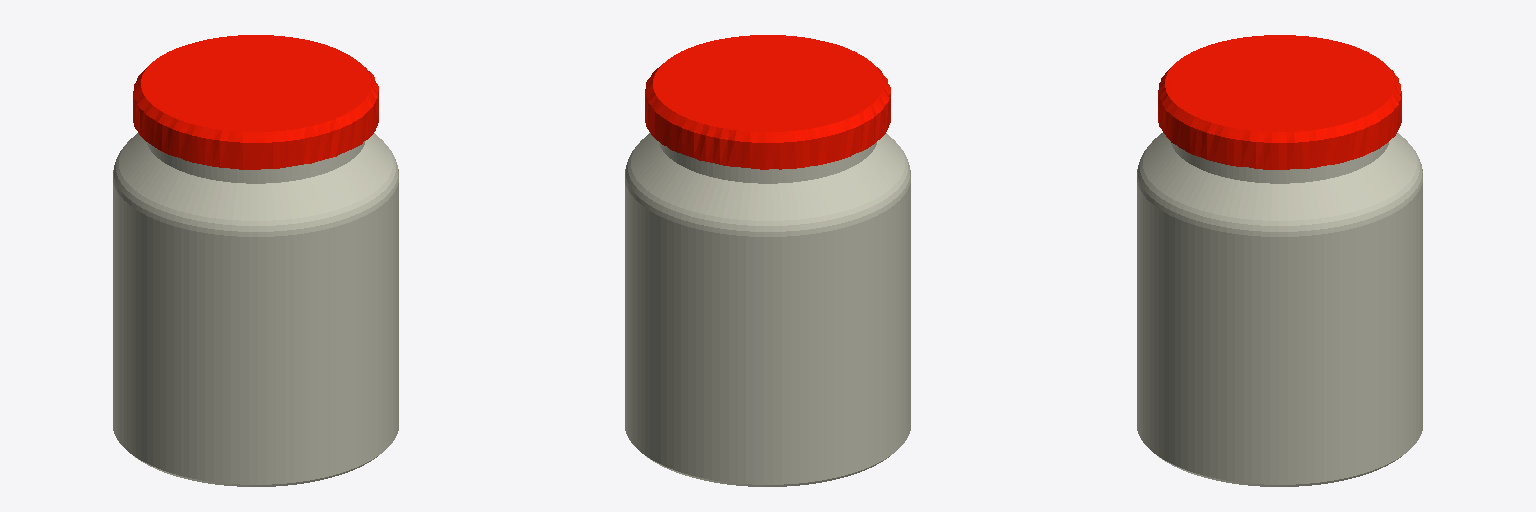
File: GD3StaminaDrink.obj
3 views of the same model, side by side, from view 1: azimuth 30°, elevation 25°; view 2: azimuth 150°, elevation 25°; view 3: azimuth 270°, elevation 25° (orthographic).
Parts seen in each view (by area): view 1: Cylinder_Cylinder.001, Cylinder.001_Cylinder.002; view 2: Cylinder_Cylinder.001, Cylinder.001_Cylinder.002; view 3: Cylinder_Cylinder.001, Cylinder.001_Cylinder.002.
Part boxes in pixels (bbox=[...]): Cylinder_Cylinder.001: bbox=[113, 133, 398, 486]; Cylinder.001_Cylinder.002: bbox=[133, 35, 378, 169]; Cylinder_Cylinder.001: bbox=[625, 133, 910, 486]; Cylinder.001_Cylinder.002: bbox=[645, 35, 890, 169]; Cylinder_Cylinder.001: bbox=[1137, 133, 1422, 486]; Cylinder.001_Cylinder.002: bbox=[1158, 35, 1401, 169].
Size of the model in its own units: 2 by 2.65 by 2.